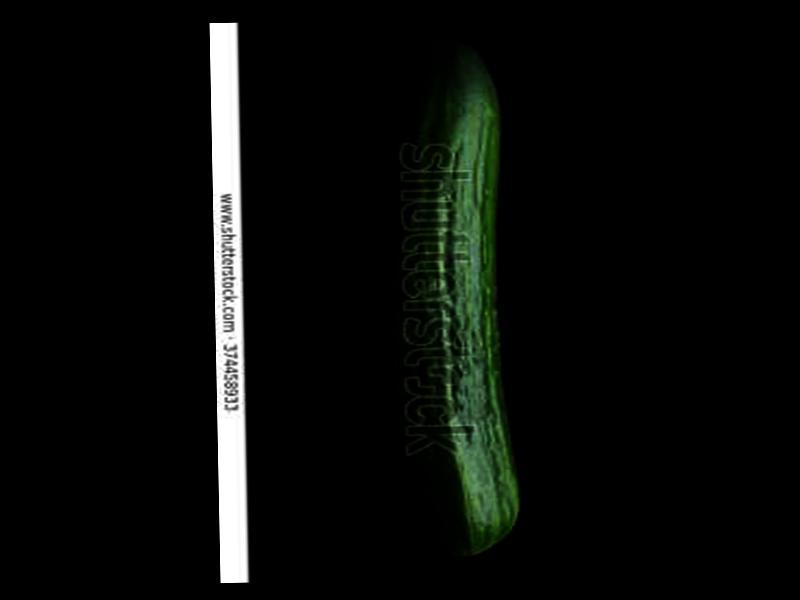Cucumber: (391, 38, 518, 560)
